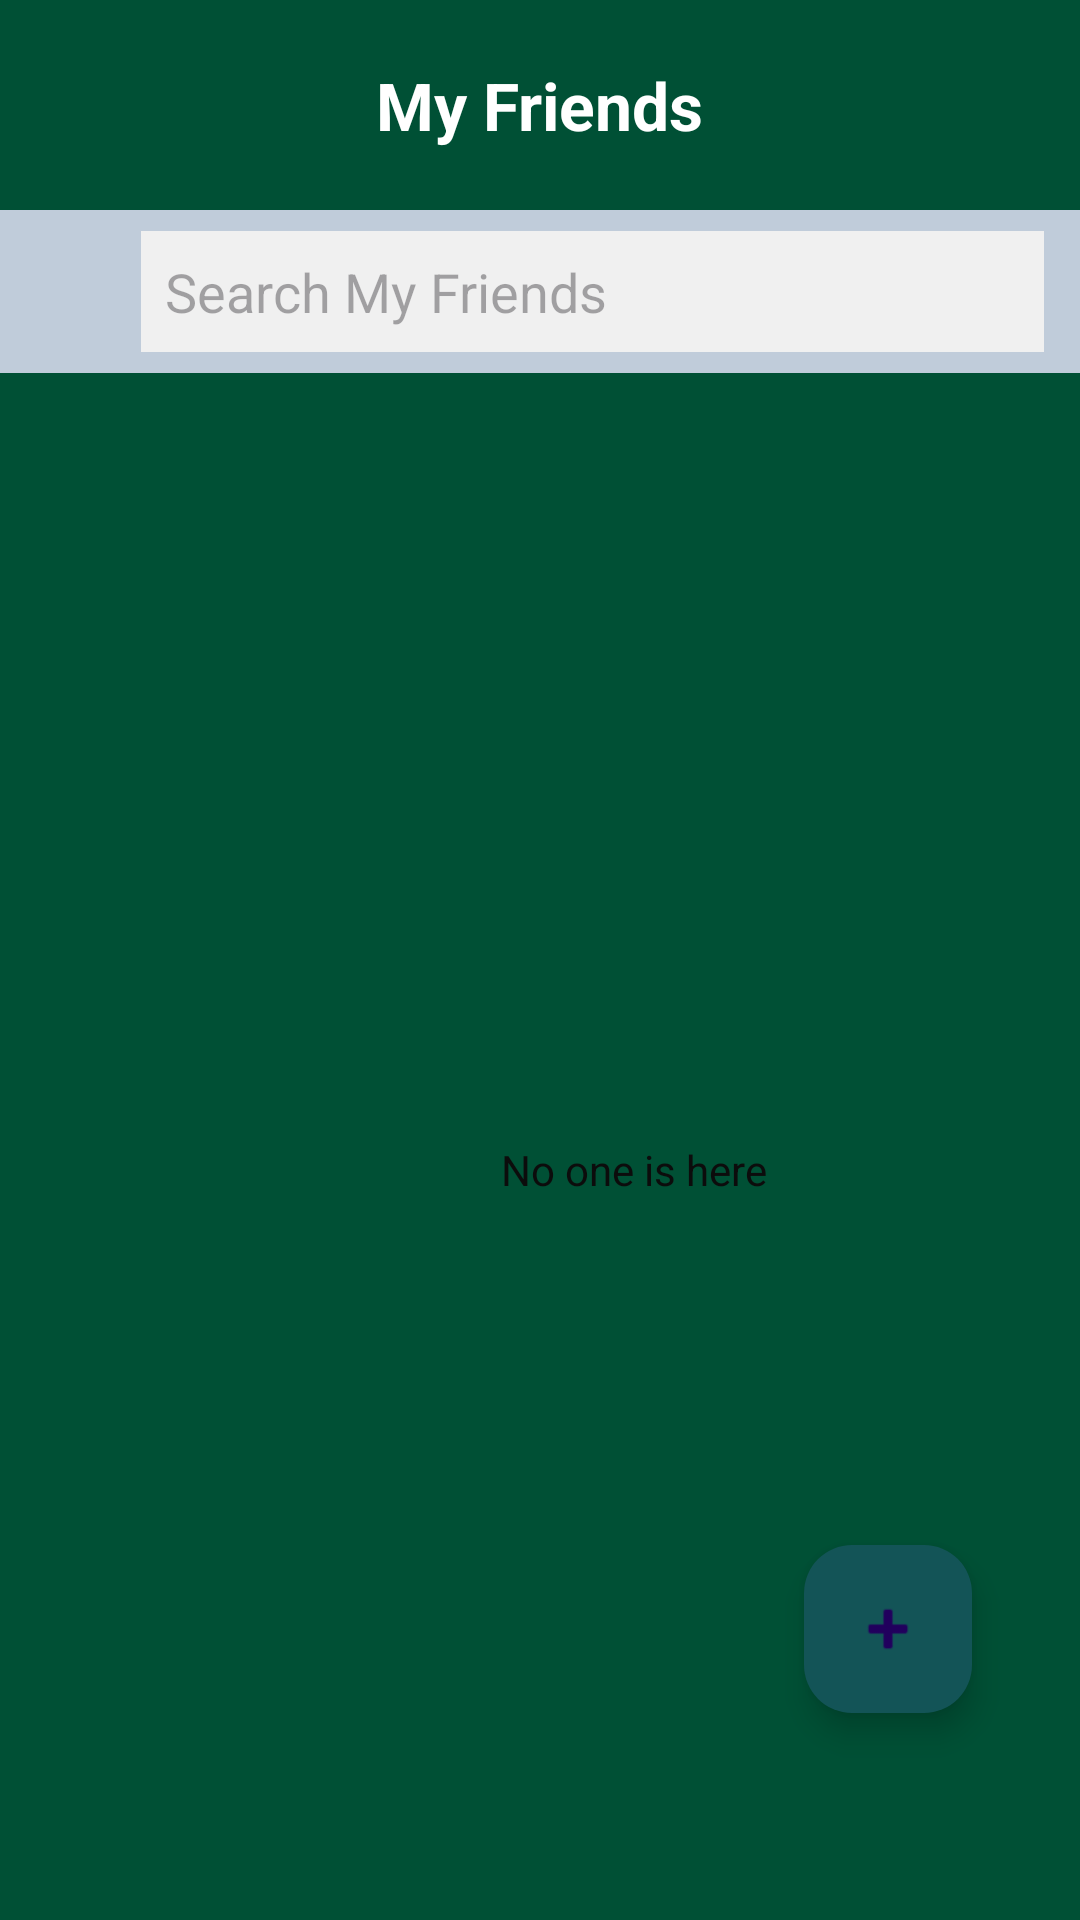

Icons on this 1080x1920 Android screen, each with the point to tap as (x=x, y=y):
add: (x=888, y=1629)
